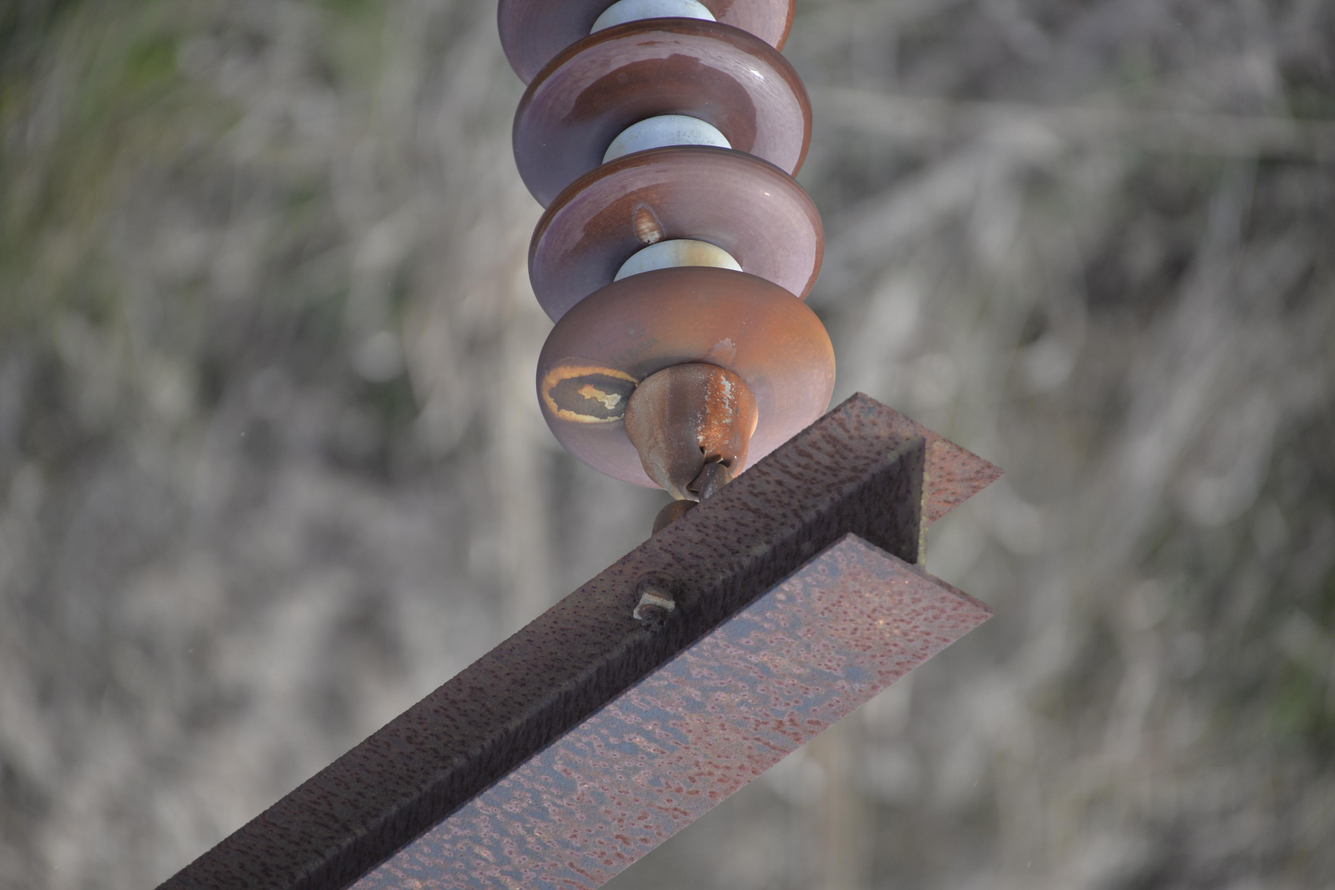Flashover: (541, 348, 648, 432), (626, 195, 677, 252)
insulator: (491, 0, 836, 482)
